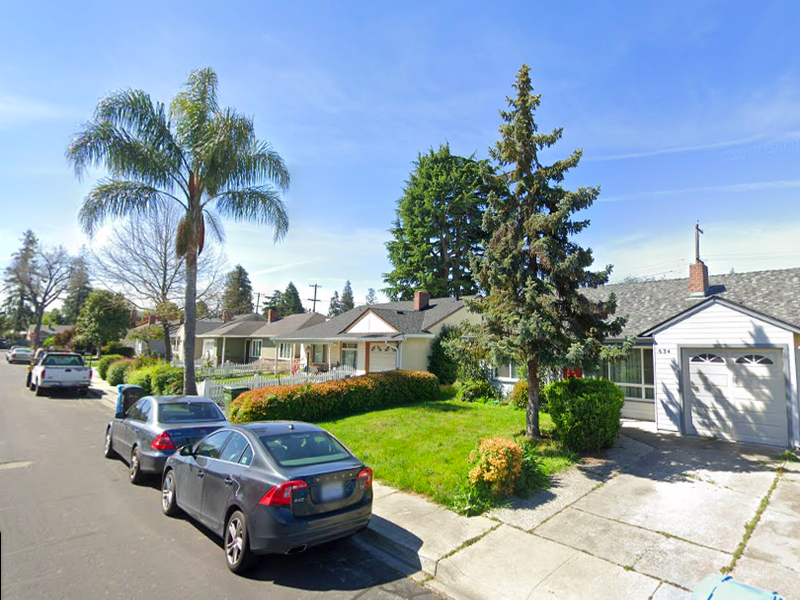tree: (62, 64, 292, 397), (463, 62, 630, 449)
